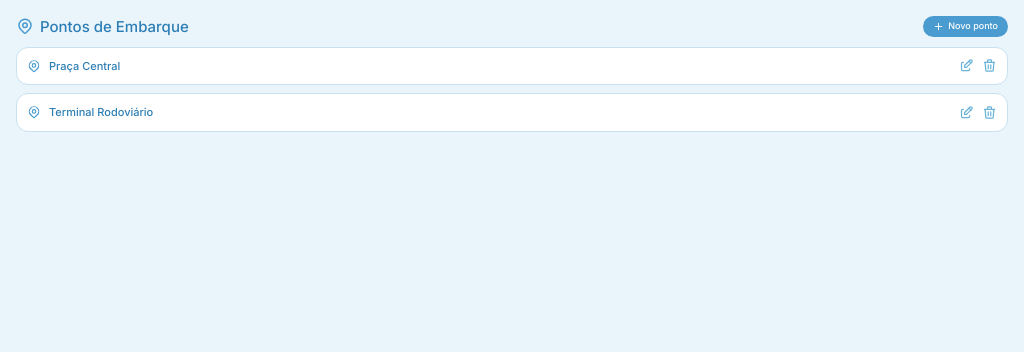
PontosPage — adicionar › exibe erro de validação quando nome está vazio
The width and height of the screenshot is (1024, 352).
Click the button "Novo ponto" at (966, 26), box [923, 16, 1008, 37]
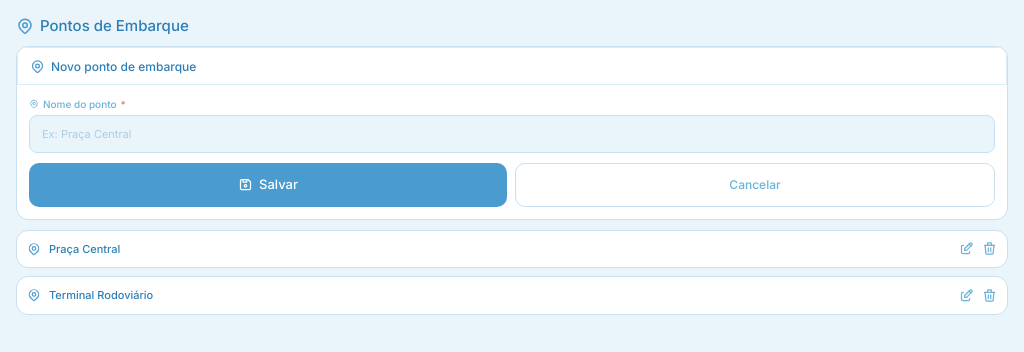
Submit the form with test id "form-adicionar", box [17, 84, 1007, 218]
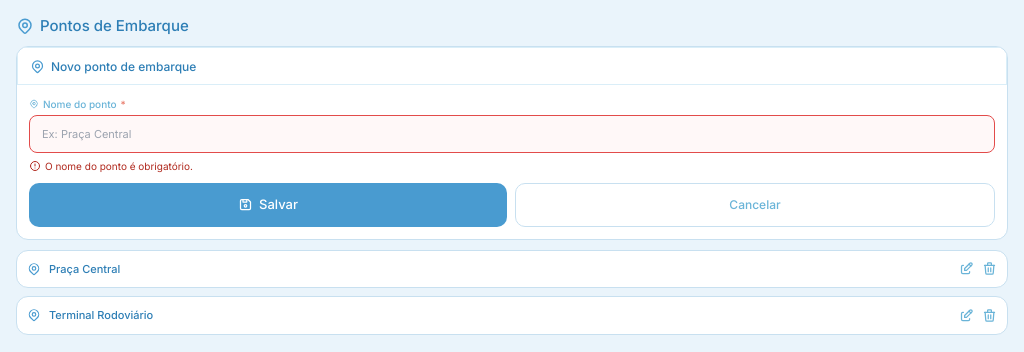
Result: the element with test id "erro-nome" is shown at [29, 160, 193, 172]
